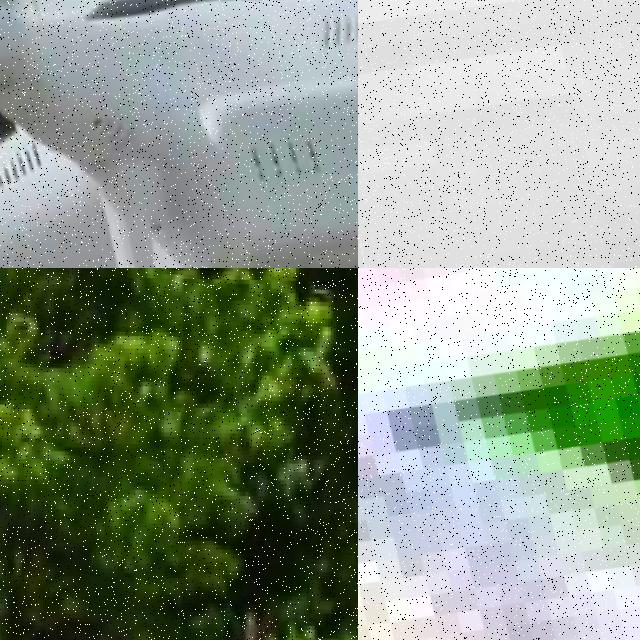drone: (358, 268, 640, 640), (0, 0, 358, 268), (358, 0, 640, 268)
